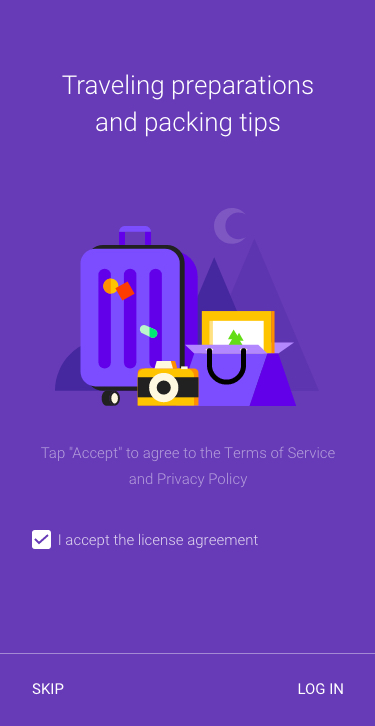CheckedTextView: (32, 530, 259, 550)
Image: (55, 208, 320, 407)
Text: (62, 74, 314, 138), (41, 446, 336, 488), (59, 533, 259, 549), (298, 682, 344, 695), (33, 682, 65, 695)
